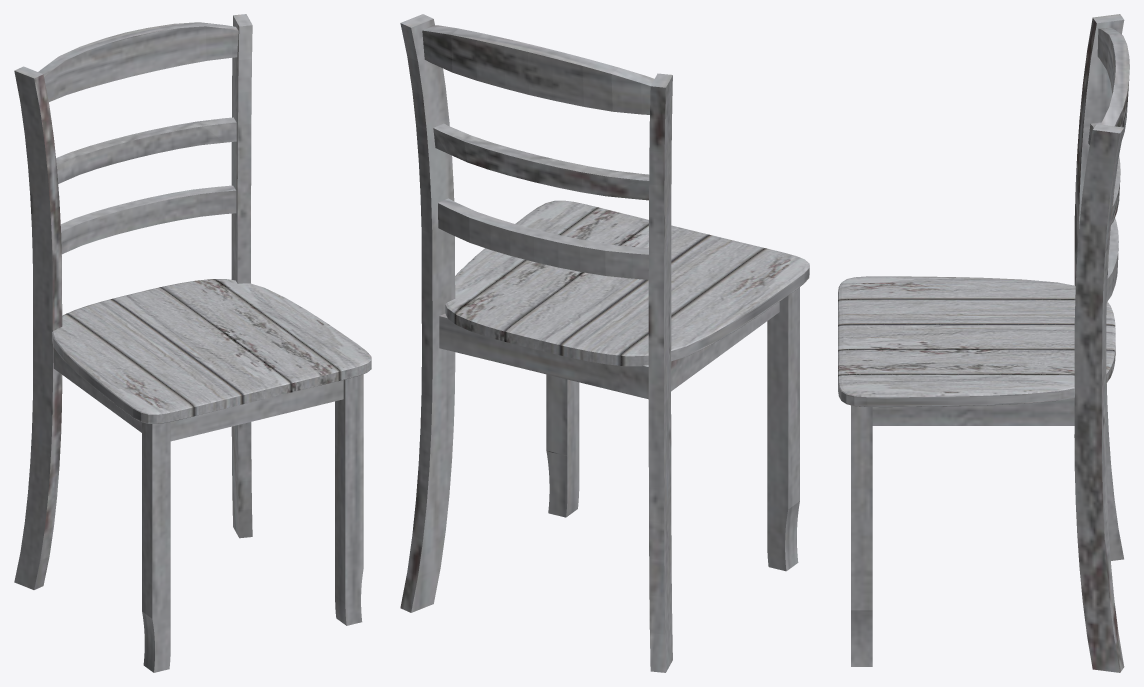
Rendered from kitchenChair.obj.
The picture shows the model from 3 angles, left to right: view 1: azimuth 30°, elevation 25°; view 2: azimuth 150°, elevation 25°; view 3: azimuth 270°, elevation 25°; orthographic projection. The views are drawn at different scales.
Visible parts, largest first — view 1: Plane_Plane.003, Cube.001_Cube.007; view 2: Plane_Plane.003, Cube.001_Cube.007; view 3: Plane_Plane.003, Cube.001_Cube.007.
Boxes of the visible parts, left/top/right/bottom form: Plane_Plane.003: left=14, top=14, right=363, bottom=672; Cube.001_Cube.007: left=52, top=279, right=371, bottom=423; Plane_Plane.003: left=400, top=14, right=799, bottom=672; Cube.001_Cube.007: left=445, top=200, right=809, bottom=366; Plane_Plane.003: left=851, top=14, right=1129, bottom=672; Cube.001_Cube.007: left=838, top=276, right=1115, bottom=407.
Size of the model in its own units: 43.04 by 90.96 by 43.99.
2 materials, 2 textured.
